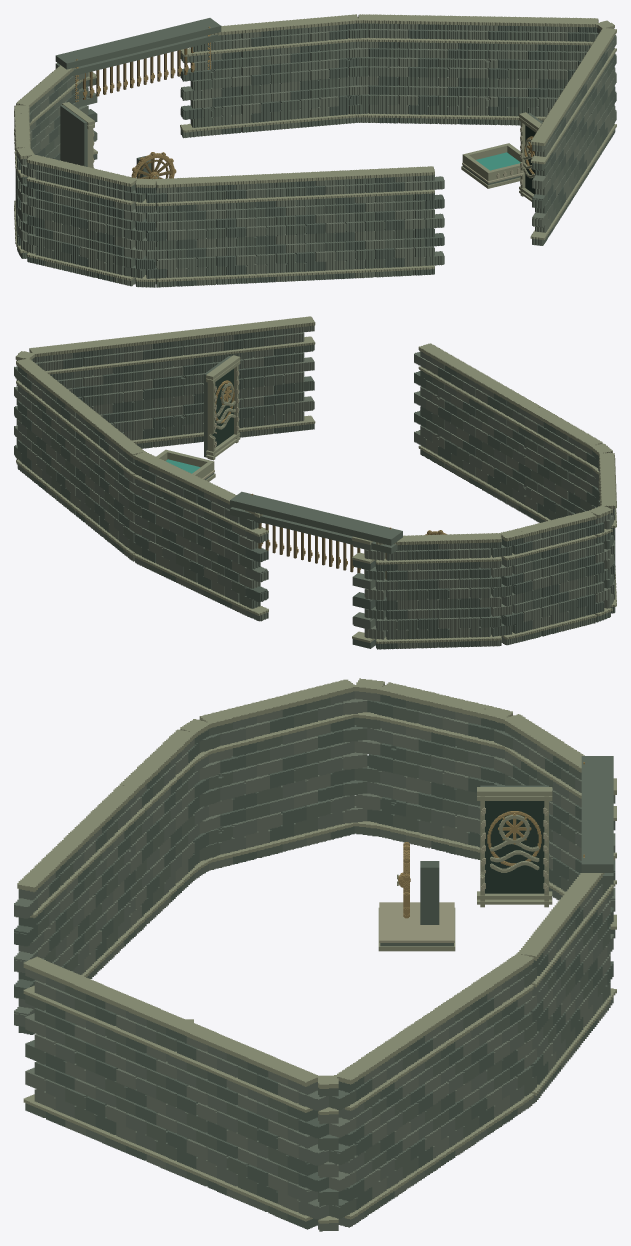
3 renders of one model, top to bottom at view 1: azimuth 30°, elevation 25°; view 2: azimuth 150°, elevation 25°; view 3: azimuth 270°, elevation 25°, orthographic. The views are drawn at different scales.
Parts seen in each view (by area): view 1: CarvedMasonry_-3_0_00, CarvedMasonry_-1_1_00, CarvedMasonry_0_-2_00, CarvedMasonry_2_-1_00, CarvedMasonry_-2_1_00, CarvedMasonry_1_-2_00, RaisedPortcullis_00, CarvedMasonry_1_-1_00, CarvedMasonry_-1_-2_00, CarvedMasonry_-3_-1_00, CarvedMasonry_1_1_00, CarvedMasonry_2_0_00 (+10 smaller); view 2: CarvedMasonry_-3_-2_00, CarvedMasonry_2_0_00, CarvedMasonry_1_1_00, CarvedMasonry_0_-2_00, CarvedMasonry_-3_-1_00, CarvedMasonry_-1_1_00, CarvedMasonry_-2_-2_00, CarvedMasonry_2_-1_00, CarvedMasonry_-2_1_00, RaisedPortcullis_00, CarvedMasonry_1_-2_00, CarvedMasonry_-1_-2_00 (+7 smaller); view 3: CarvedMasonry_-3_-1_00, CarvedMasonry_2_0_00, CarvedMasonry_-3_0_00, CarvedMasonry_2_-1_00, CarvedMasonry_1_1_00, CarvedMasonry_-1_1_00, CarvedMasonry_1_-2_00, CarvedMasonry_0_-2_00, CarvedMasonry_-3_-2_00, CarvedMasonry_-2_1_00, Heraldry_02_01, CarvedMasonry_1_-1_00 (+7 smaller).
Part boxes in pixels (box(x1,y1,x2,y2)): CarvedMasonry_-3_0_00: box(53, 162, 197, 287); CarvedMasonry_-1_1_00: box(305, 166, 434, 280); CarvedMasonry_0_-2_00: box(231, 14, 358, 132); CarvedMasonry_2_-1_00: box(478, 16, 616, 126); CarvedMasonry_-2_1_00: box(215, 171, 315, 284); CarvedMasonry_1_-2_00: box(348, 14, 438, 123); RaisedPortcullis_00: box(55, 18, 221, 101); CarvedMasonry_1_-1_00: box(428, 15, 488, 124); CarvedMasonry_-1_-2_00: box(180, 24, 241, 138); CarvedMasonry_-3_-1_00: box(14, 122, 67, 269); CarvedMasonry_1_1_00: box(530, 93, 575, 245); CarvedMasonry_2_0_00: box(567, 28, 616, 188); CarvedMasonry_-3_-2_00: box(428, 524, 542, 647); CarvedMasonry_2_0_00: box(29, 332, 183, 448); CarvedMasonry_1_1_00: box(190, 316, 315, 442); CarvedMasonry_0_-2_00: box(133, 451, 227, 601); CarvedMasonry_-3_-1_00: box(531, 488, 616, 636); CarvedMasonry_-1_1_00: box(418, 343, 504, 496); CarvedMasonry_-2_-2_00: box(352, 534, 438, 649); CarvedMasonry_2_-1_00: box(14, 351, 86, 514); CarvedMasonry_-2_1_00: box(493, 386, 565, 522); RaisedPortcullis_00: box(230, 491, 402, 579); CarvedMasonry_1_-2_00: box(93, 420, 145, 561); CarvedMasonry_-1_-2_00: box(216, 491, 268, 621); CarvedMasonry_-3_-1_00: box(298, 678, 469, 854); CarvedMasonry_2_0_00: box(156, 1017, 318, 1229); CarvedMasonry_-3_0_00: box(154, 691, 317, 901); CarvedMasonry_2_-1_00: box(298, 1015, 442, 1231); CarvedMasonry_1_1_00: box(23, 956, 157, 1160); CarvedMasonry_-1_1_00: box(17, 818, 106, 1034); CarvedMasonry_1_-2_00: box(457, 953, 536, 1145); CarvedMasonry_0_-2_00: box(517, 885, 592, 1103); CarvedMasonry_-3_-2_00: box(455, 700, 567, 896); CarvedMasonry_-2_1_00: box(86, 762, 160, 967); Heraldry_02_01: box(477, 785, 552, 907); CarvedMasonry_1_-1_00: box(426, 994, 479, 1165).
Size of the model in its own units: 36.12 by 6.6 by 22.62.
